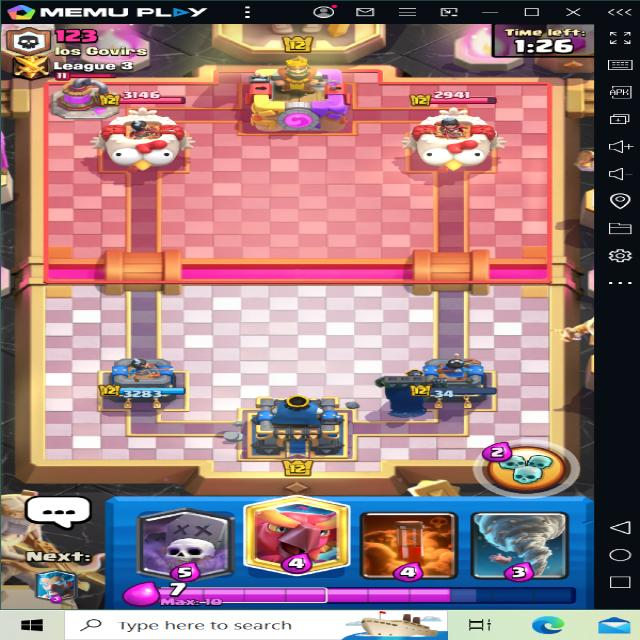elixir-collector: (34, 75, 117, 125)
